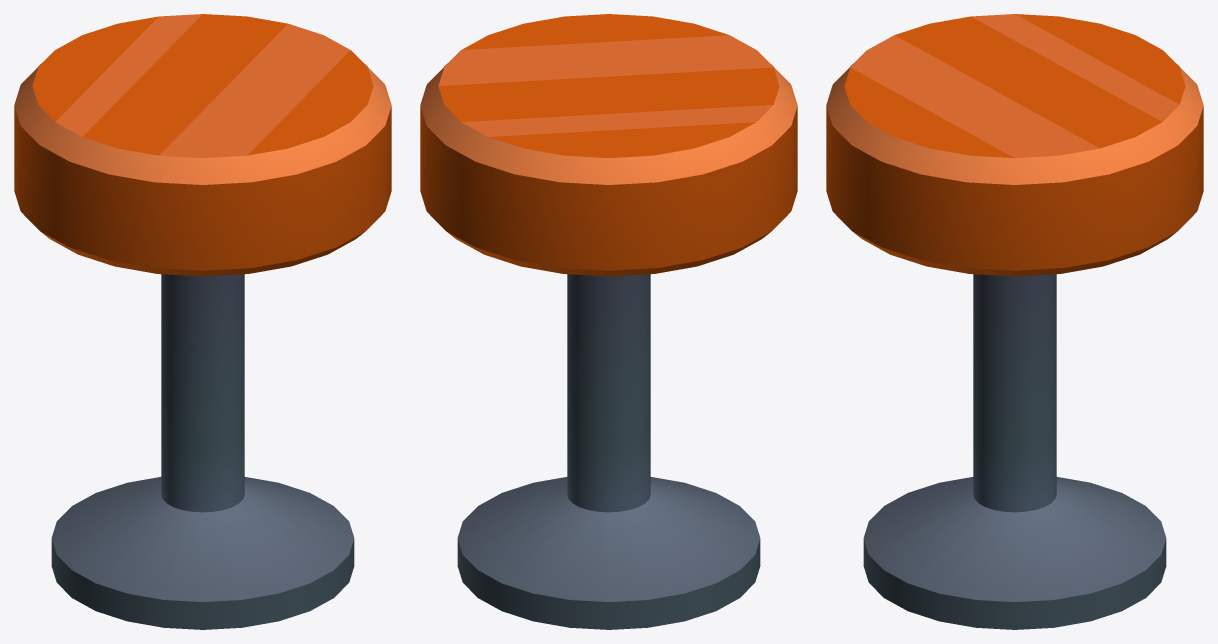
The model's file is chair.fbx.
3 views of the same model, side by side, from view 1: azimuth 30°, elevation 25°; view 2: azimuth 150°, elevation 25°; view 3: azimuth 270°, elevation 25° (orthographic).
Parts seen in each view (by area): view 1: round_chair; view 2: round_chair; view 3: round_chair.
Boxes of the visible parts, box(x1,y1,x2,y2) form: round_chair: box(14, 14, 391, 629); round_chair: box(420, 14, 797, 629); round_chair: box(826, 14, 1203, 629).
Bounding box in the file's own units: 42.59 × 59.74 × 42.59.
